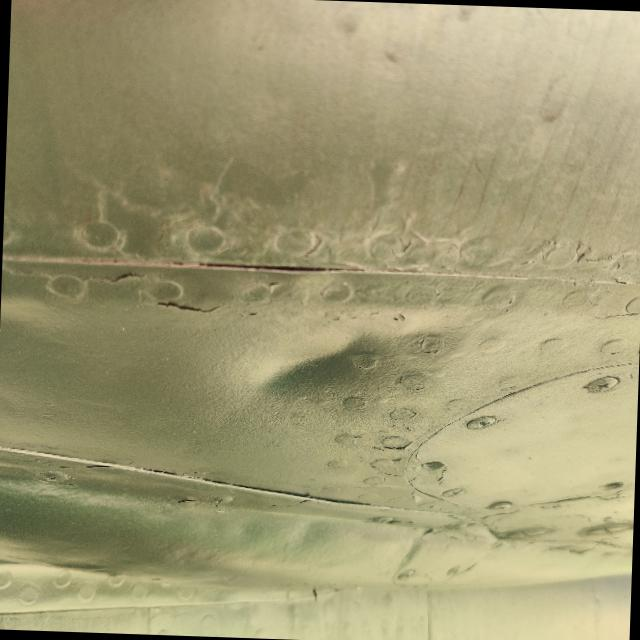dent: (252, 319, 427, 412)
